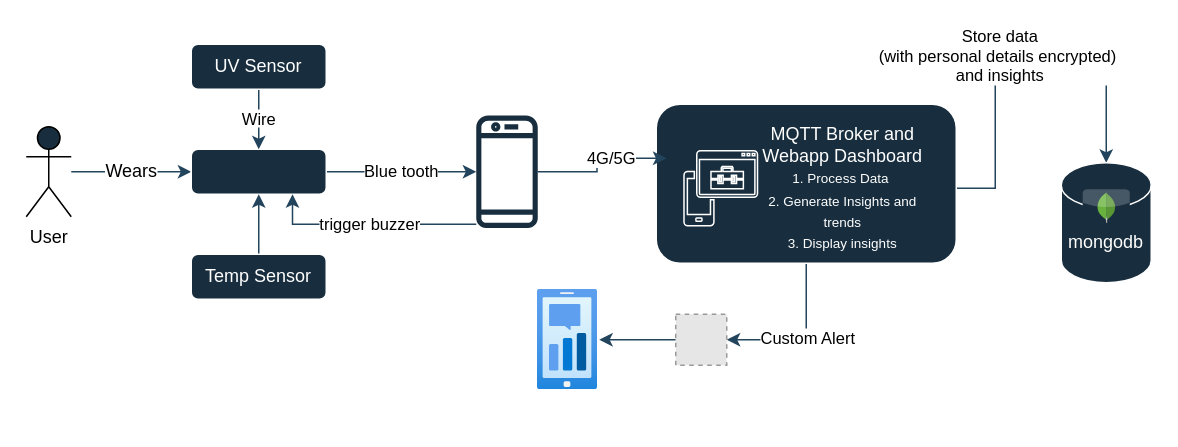
Some shapes in this 1178 by 447 pixel diagram are drawn without their labels. Grey dashed boxes stand in for pictures. Each missing label, with the box of its shape:
Flora: (190, 148, 326, 194)
Telegram Bot Updates: (537, 289, 597, 389)
